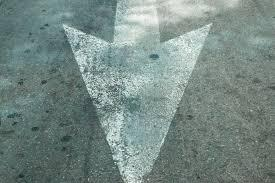faded_road_lines: (58, 0, 216, 183)
